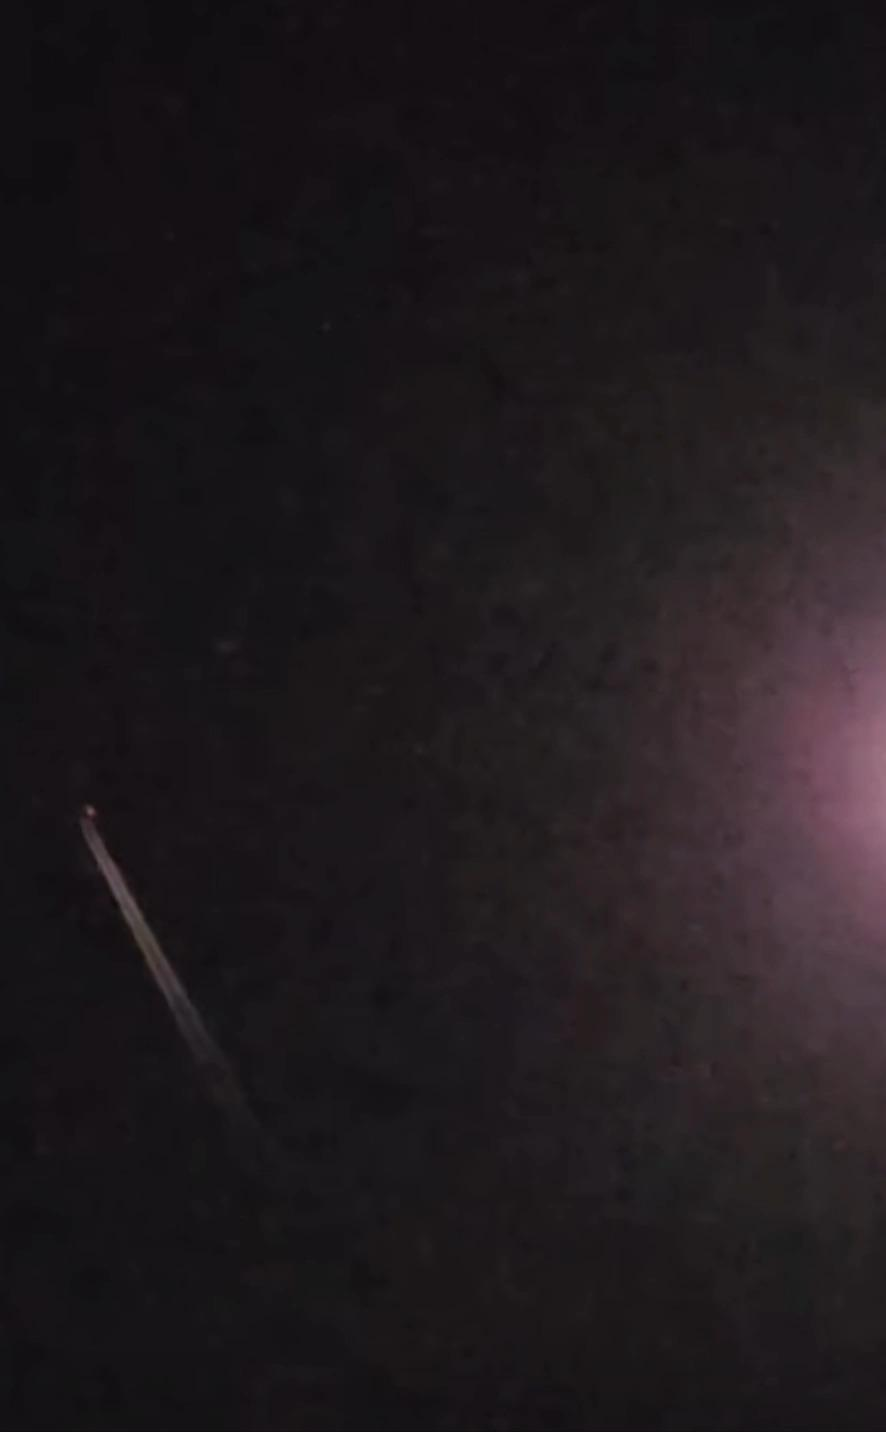Plane: (34, 782, 235, 984)
